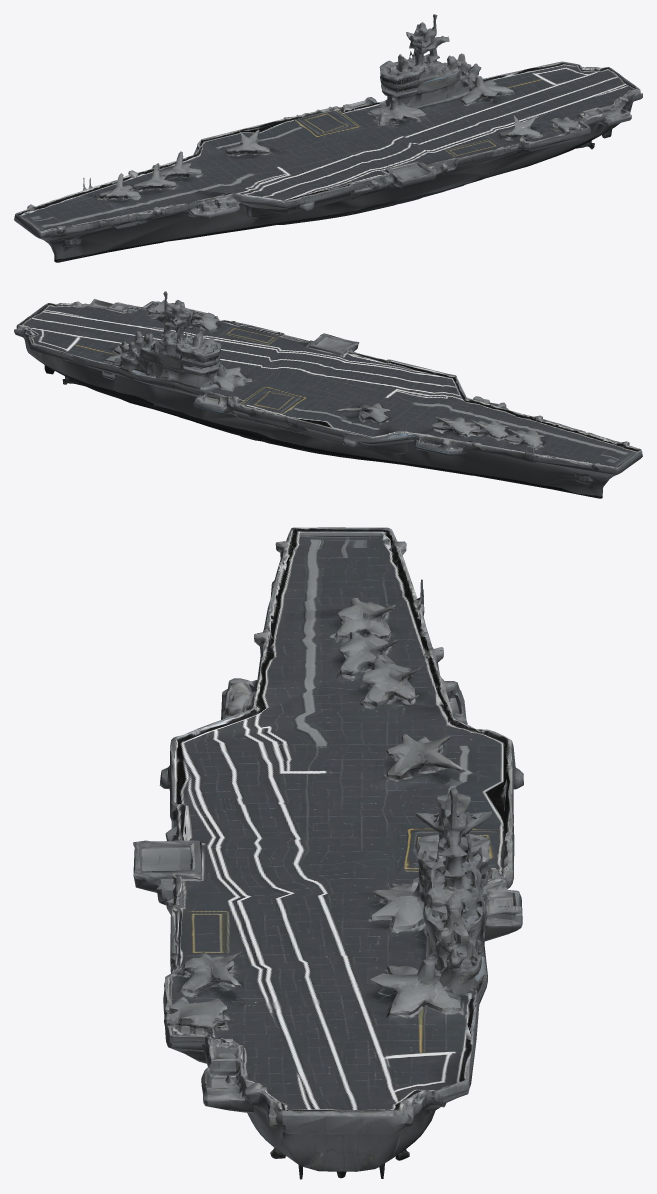
File: nimitz-carrier-meshy6-web-strategic-v1.glb
The picture shows the model from 3 angles, top to bottom: view 1: azimuth 30°, elevation 25°; view 2: azimuth 150°, elevation 25°; view 3: azimuth 270°, elevation 25°; orthographic projection. The views are drawn at different scales.
Size of the model in its own units: 1.9 by 0.3943 by 0.5349.
1 material, 1 textured.
